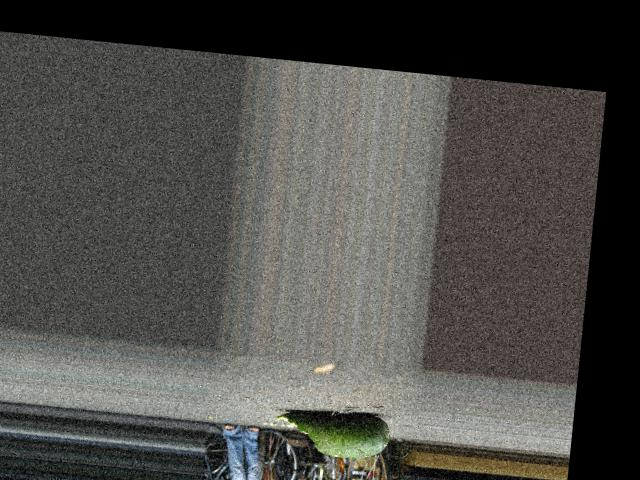cucumber: (272, 405, 391, 461)
